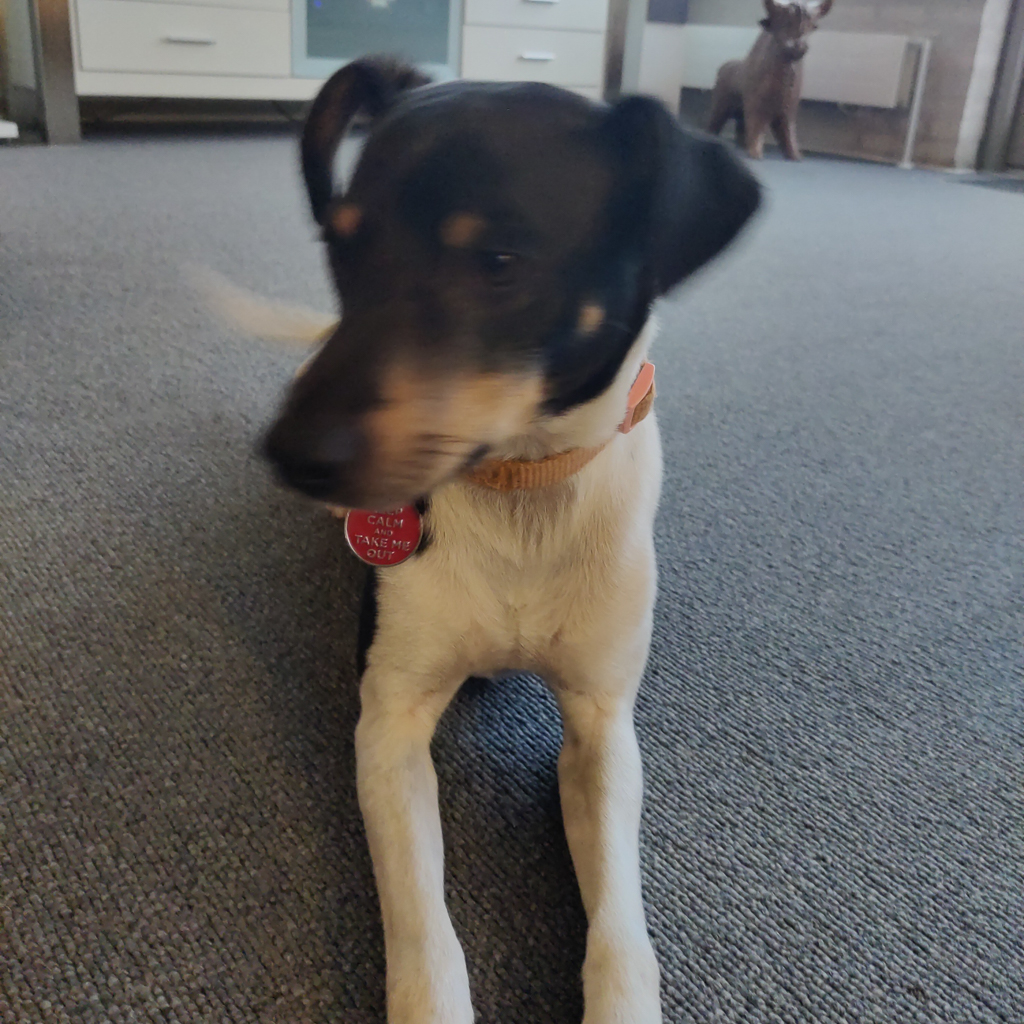Cattle: (695, 0, 840, 167)
Dog: (153, 19, 819, 1024)
